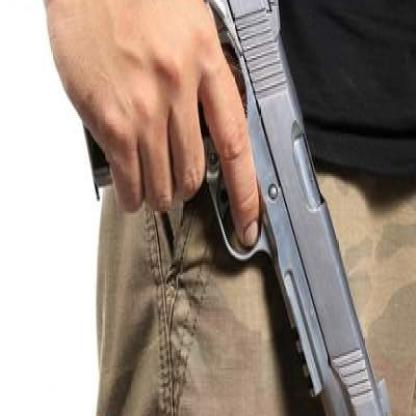gun: (72, 0, 398, 414)
